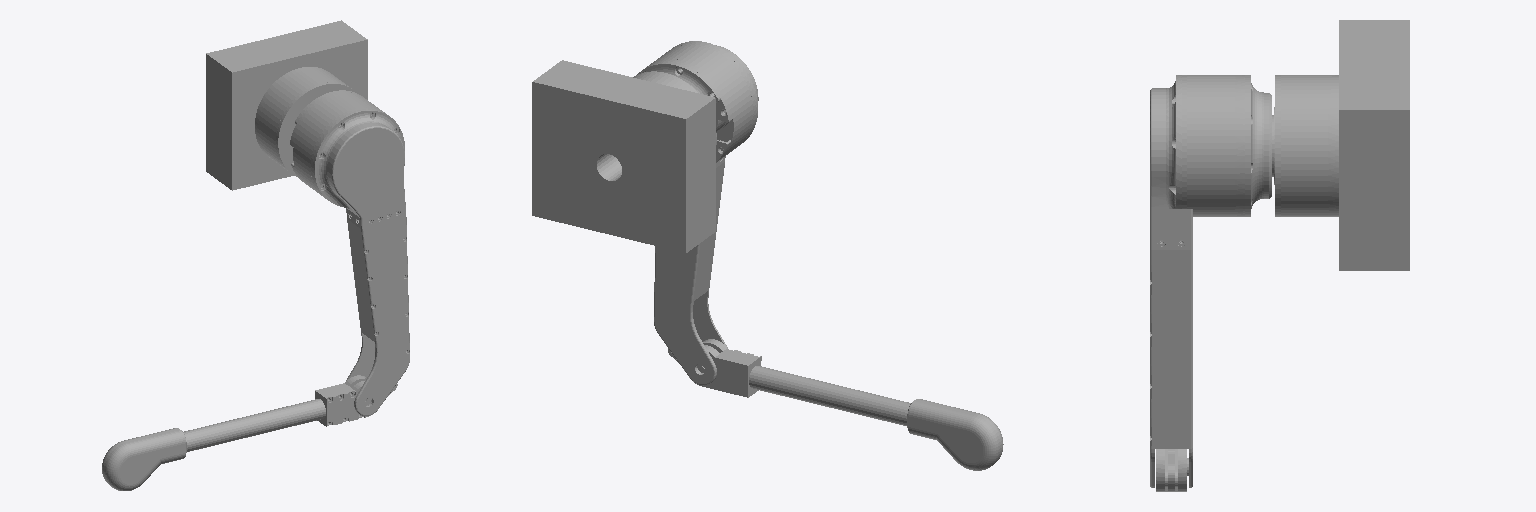
robot.urdf — Nomad:
<?xml version="1.0" ?>
<robot name="Nomad">

<material name="silver">
  <color rgba="0.700 0.700 0.700 1.000"/>
</material>

<link name="base_link">
  <inertial>
    <origin rpy="0 0 0" xyz="0.013417226758864191 -0.026438366790666842 -0.03098253987913053"/>
    <mass value="7.166707013041554"/>
    <inertia ixx="0.01106805740051774" ixy="-2.688821387764051e-17" ixz="2.6020852139652106e-18" iyy="0.02336629547074094" iyz="1.6479873021779667e-17" izz="0.015284365992323856"/>
  </inertial>
  <visual>
    <origin rpy="0 0 0" xyz="0 0 0"/>
    <geometry>
      <mesh filename="meshes/base_link.stl" scale="0.001 0.001 0.001"/>
    </geometry>
    <material name="silver"/>
  </visual>
  <collision>
    <origin rpy="0 0 0" xyz="0 0 0"/>
    <geometry>
      <mesh filename="meshes/base_link.stl" scale="0.001 0.001 0.001"/>
    </geometry>
  </collision>
</link>

<link name="HFE_Actuator1">
  <inertial>
    <origin rpy="0 0 0" xyz="2.355489730904159e-07 -0.028017105086293764 0.0005418477318708086"/>
    <mass value="0.22819661408568134"/>
    <inertia ixx="0.00022867987683109544" ixy="-4.8251647875819856e-11" ixz="1.0859538501729535e-12" iyy="0.00033739620126913065" iyz="-3.1919090569470588e-06" izz="0.0002340324473857605"/>
  </inertial>
  <visual>
    <origin rpy="0 0 0" xyz="-0.013417 0.051438 0.030983"/>
    <geometry>
      <mesh filename="meshes/HFE_Actuator1.stl" scale="0.001 0.001 0.001"/>
    </geometry>
    <material name="silver"/>
  </visual>
  <collision>
    <origin rpy="0 0 0" xyz="-0.013417 0.051438 0.030983"/>
    <geometry>
      <mesh filename="meshes/HFE_Actuator1.stl" scale="0.001 0.001 0.001"/>
    </geometry>
  </collision>
</link>

<link name="KFE_Actuator1">
  <inertial>
    <origin rpy="0 0 0" xyz="0.0025125273070217644 -0.03773429985642904 0.00019195849646111082"/>
    <mass value="0.3024397808873297"/>
    <inertia ixx="0.0003757916597388533" ixy="-1.8586947228952733e-05" ixz="1.986498510634429e-06" iyy="0.0004330757435118894" iyz="-1.4167962299270042e-06" izz="0.00034988188581722927"/>
  </inertial>
  <visual>
    <origin rpy="0 0 0" xyz="-0.013417 0.098438 0.030983"/>
    <geometry>
      <mesh filename="meshes/KFE_Actuator1.stl" scale="0.001 0.001 0.001"/>
    </geometry>
    <material name="silver"/>
  </visual>
  <collision>
    <origin rpy="0 0 0" xyz="-0.013417 0.098438 0.030983"/>
    <geometry>
      <mesh filename="meshes/KFE_Actuator1.stl" scale="0.001 0.001 0.001"/>
    </geometry>
  </collision>
</link>

<link name="Upper_Leg1">
  <inertial>
    <origin rpy="0 0 0" xyz="0.0143586261367187 -0.008509623980640452 -0.09162607915766485"/>
    <mass value="0.28719650282800196"/>
    <inertia ixx="0.0019274860541081355" ixy="-4.984293958382787e-06" ixz="0.00017191518900745132" iyy="0.0020438268444529714" iyz="3.828968680260215e-05" izz="0.00018690033165804504"/>
  </inertial>
  <visual>
    <origin rpy="0 0 0" xyz="-0.013417 0.162438 0.030983"/>
    <geometry>
      <mesh filename="meshes/Upper_Leg1.stl" scale="0.001 0.001 0.001"/>
    </geometry>
    <material name="silver"/>
  </visual>
  <collision>
    <origin rpy="0 0 0" xyz="-0.013417 0.162438 0.030983"/>
    <geometry>
      <mesh filename="meshes/Upper_Leg1.stl" scale="0.001 0.001 0.001"/>
    </geometry>
  </collision>
</link>

<link name="Lower_Leg1">
  <inertial>
    <origin rpy="0 0 0" xyz="-0.03864247059977867 0.011139963948639364 -0.001983186996966646"/>
    <mass value="0.1002751137848322"/>
    <inertia ixx="1.2789903629975563e-05" ixy="-1.7793573590631695e-07" ixz="-3.4587073565705813e-06" iyy="0.000348285927696753" iyz="7.604946543164626e-09" izz="0.0003440245076319682"/>
  </inertial>
  <visual>
    <origin rpy="0 0 0" xyz="-0.013419 0.180438 0.280983"/>
    <geometry>
      <mesh filename="meshes/Lower_Leg1.stl" scale="0.001 0.001 0.001"/>
    </geometry>
    <material name="silver"/>
  </visual>
  <collision>
    <origin rpy="0 0 0" xyz="-0.013419 0.180438 0.280983"/>
    <geometry>
      <mesh filename="meshes/Lower_Leg1.stl" scale="0.001 0.001 0.001"/>
    </geometry>
  </collision>
</link>

<link name="Foot1">
  <inertial>
    <origin rpy="0 0 0" xyz="-0.022872859875313872 -3.667906789128761e-07 -0.006674882318538133"/>
    <mass value="0.07686399002843462"/>
    <inertia ixx="1.4697350582522362e-05" ixy="2.949029909160572e-17" ixz="-5.876649622509576e-06" iyy="4.390760285276872e-05" iyz="1.2576745200831851e-17" izz="3.596310228595398e-05"/>
  </inertial>
  <visual>
    <origin rpy="0 0 0" xyz="0.211579 0.169438 0.283692"/>
    <geometry>
      <mesh filename="meshes/Foot1.stl" scale="0.001 0.001 0.001"/>
    </geometry>
    <material name="silver"/>
  </visual>
  <collision>
    <origin rpy="0 0 0" xyz="0.211579 0.169438 0.283692"/>
    <geometry>
      <mesh filename="meshes/Foot1.stl" scale="0.001 0.001 0.001"/>
    </geometry>
  </collision>
</link>

<joint name="base_to_hip_motor" type="fixed">
  <origin rpy="0 0 0" xyz="0.013417 -0.051438 -0.030983"/>
  <parent link="base_link"/>
  <child link="HFE_Actuator1"/>
</joint>

<joint name="hip_motor_to_knee_motor" type="continuous">
  <origin rpy="0 0 0" xyz="0.0 -0.047 0.0"/>
  <parent link="HFE_Actuator1"/>
  <child link="KFE_Actuator1"/>
  <axis xyz="0.0 -1.0 -0.0"/>
</joint>
<transmission name="hip_motor_to_knee_motor_tran">
  <type>transmission_interface/SimpleTransmission</type>
  <joint name="hip_motor_to_knee_motor">
    <hardwareInterface>PositionJointInterface</hardwareInterface>
  </joint>
  <actuator name="hip_motor_to_knee_motor_actr">
    <hardwareInterface>PositionJointInterface</hardwareInterface>
    <mechanicalReduction>1</mechanicalReduction>
  </actuator>
</transmission>

<joint name="knee_motor_upper_leg" type="fixed">
  <origin rpy="0 0 0" xyz="0.0 -0.064 0.0"/>
  <parent link="KFE_Actuator1"/>
  <child link="Upper_Leg1"/>
</joint>

<joint name="upper_leg_to_lower_leg" type="continuous">
  <origin rpy="0 0 0" xyz="2e-06 -0.018 -0.25"/>
  <parent link="Upper_Leg1"/>
  <child link="Lower_Leg1"/>
  <axis xyz="0.0 -1.0 -0.0"/>
</joint>
<transmission name="upper_leg_to_lower_leg_tran">
  <type>transmission_interface/SimpleTransmission</type>
  <joint name="upper_leg_to_lower_leg">
    <hardwareInterface>PositionJointInterface</hardwareInterface>
  </joint>
  <actuator name="upper_leg_to_lower_leg_actr">
    <hardwareInterface>PositionJointInterface</hardwareInterface>
    <mechanicalReduction>1</mechanicalReduction>
  </actuator>
</transmission>

<joint name="knee_to_foot" type="fixed">
  <origin rpy="0 0 0" xyz="-0.224998 0.011 -0.002709"/>
  <parent link="Lower_Leg1"/>
  <child link="Foot1"/>
</joint>

</robot>

--- What the picture shows (computed from the rendered views, not written in the file) ---
The picture shows the robot from 3 angles, left to right: view 1: azimuth 30°, elevation 25°; view 2: azimuth 150°, elevation 25°; view 3: azimuth 270°, elevation 25°; orthographic projection.
Model Nomad with 6 links and 5 joints (2 continuous, 3 fixed), rooted at base_link, posed every joint at zero.
Visible links, largest first — view 1: Upper_Leg1, base_link, Lower_Leg1, HFE_Actuator1, Foot1, KFE_Actuator1; view 2: base_link, Upper_Leg1, Lower_Leg1, KFE_Actuator1, Foot1, HFE_Actuator1; view 3: base_link, Upper_Leg1, KFE_Actuator1, HFE_Actuator1, Lower_Leg1.
Link boxes in pixels (x1=…): Upper_Leg1: x1=313, y1=109, x2=409, y2=415; base_link: x1=206, y1=20, x2=367, y2=190; Lower_Leg1: x1=184, y1=375, x2=397, y2=451; HFE_Actuator1: x1=255, y1=67, x2=357, y2=176; Foot1: x1=102, y1=428, x2=186, y2=490; KFE_Actuator1: x1=290, y1=90, x2=395, y2=198; base_link: x1=532, y1=60, x2=715, y2=252; Upper_Leg1: x1=654, y1=41, x2=758, y2=385; Lower_Leg1: x1=668, y1=339, x2=910, y2=425; KFE_Actuator1: x1=637, y1=43, x2=755, y2=162; Foot1: x1=907, y1=399, x2=1003, y2=470; HFE_Actuator1: x1=633, y1=71, x2=716, y2=144; base_link: x1=1339, y1=20, x2=1409, y2=270; Upper_Leg1: x1=1150, y1=75, x2=1192, y2=487; KFE_Actuator1: x1=1182, y1=75, x2=1271, y2=216; HFE_Actuator1: x1=1272, y1=75, x2=1338, y2=216; Lower_Leg1: x1=1156, y1=449, x2=1186, y2=491.
Size in the robot's own frame: 0.3597 by 0.183 by 0.3502 metres.
6 mesh visuals loaded from 6 distinct referenced files (6 binary STL).